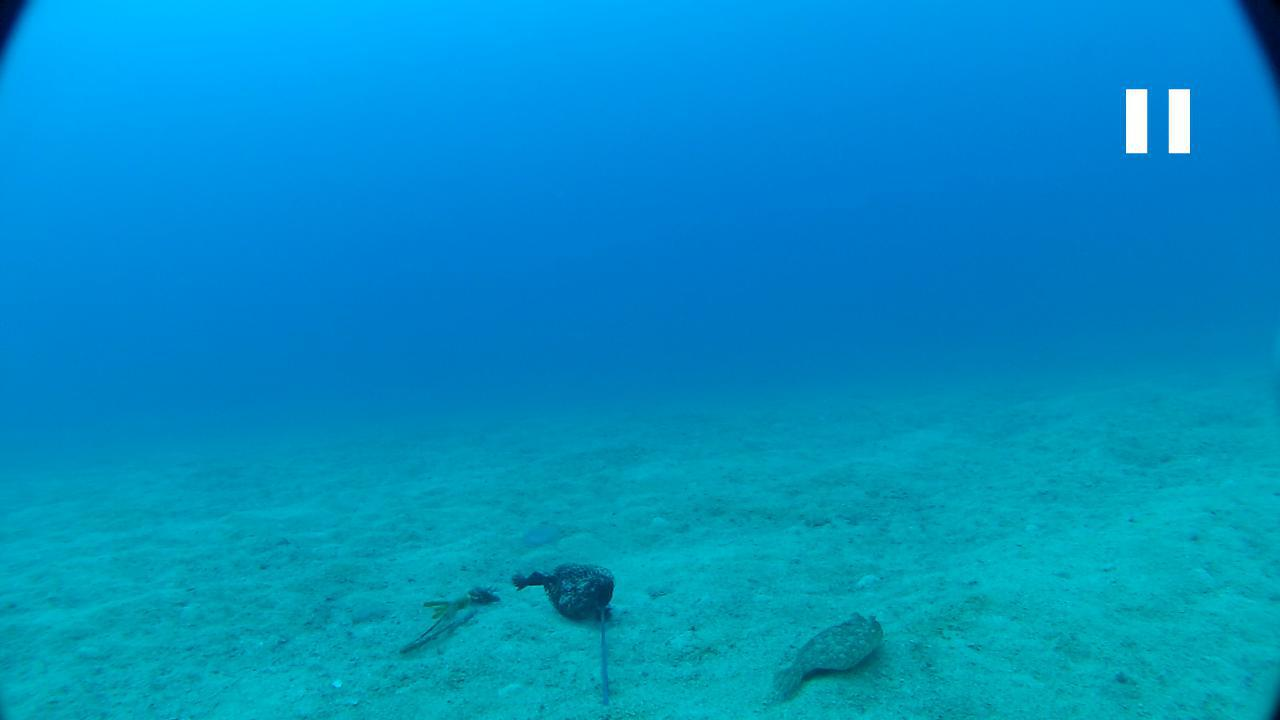bothus: (758, 606, 884, 706)
